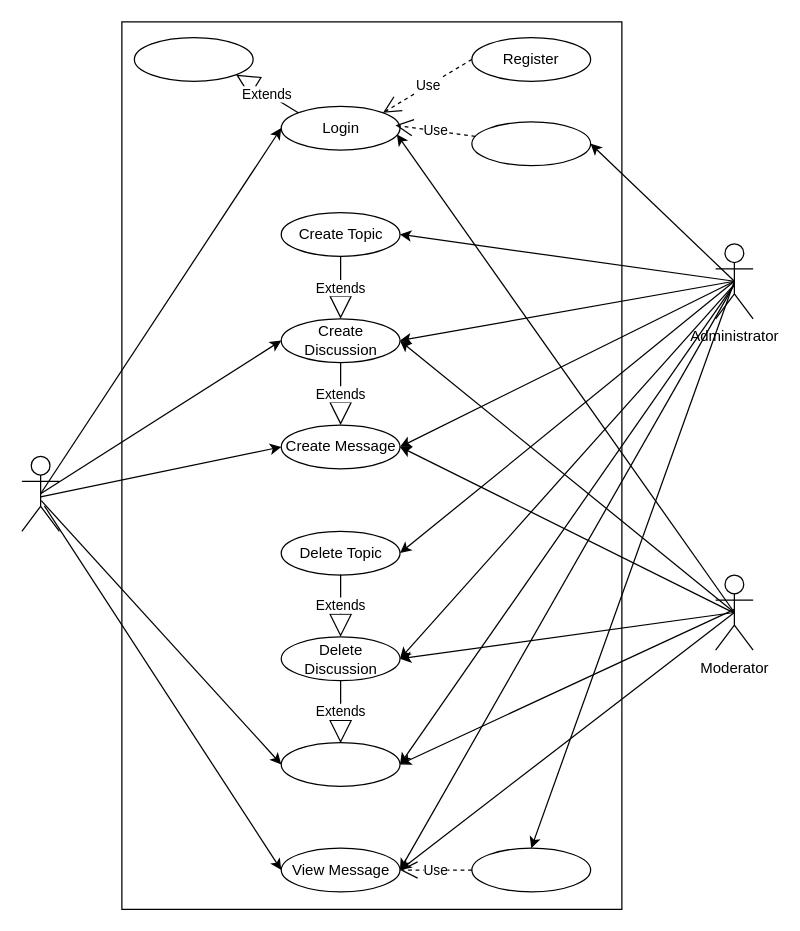
Image size: 800x931. Some labels were removed from this diagram. The shapes that lost their labels are listed below. From the top down, each one's box as (x1, y1, x2, y2) in pixels, then its label:
(133, 36, 253, 81): Update Profile
(471, 121, 591, 166): Delete Profile
(21, 455, 59, 531): User
(280, 741, 400, 786): Delete Message
(471, 847, 591, 892): Edit Message
